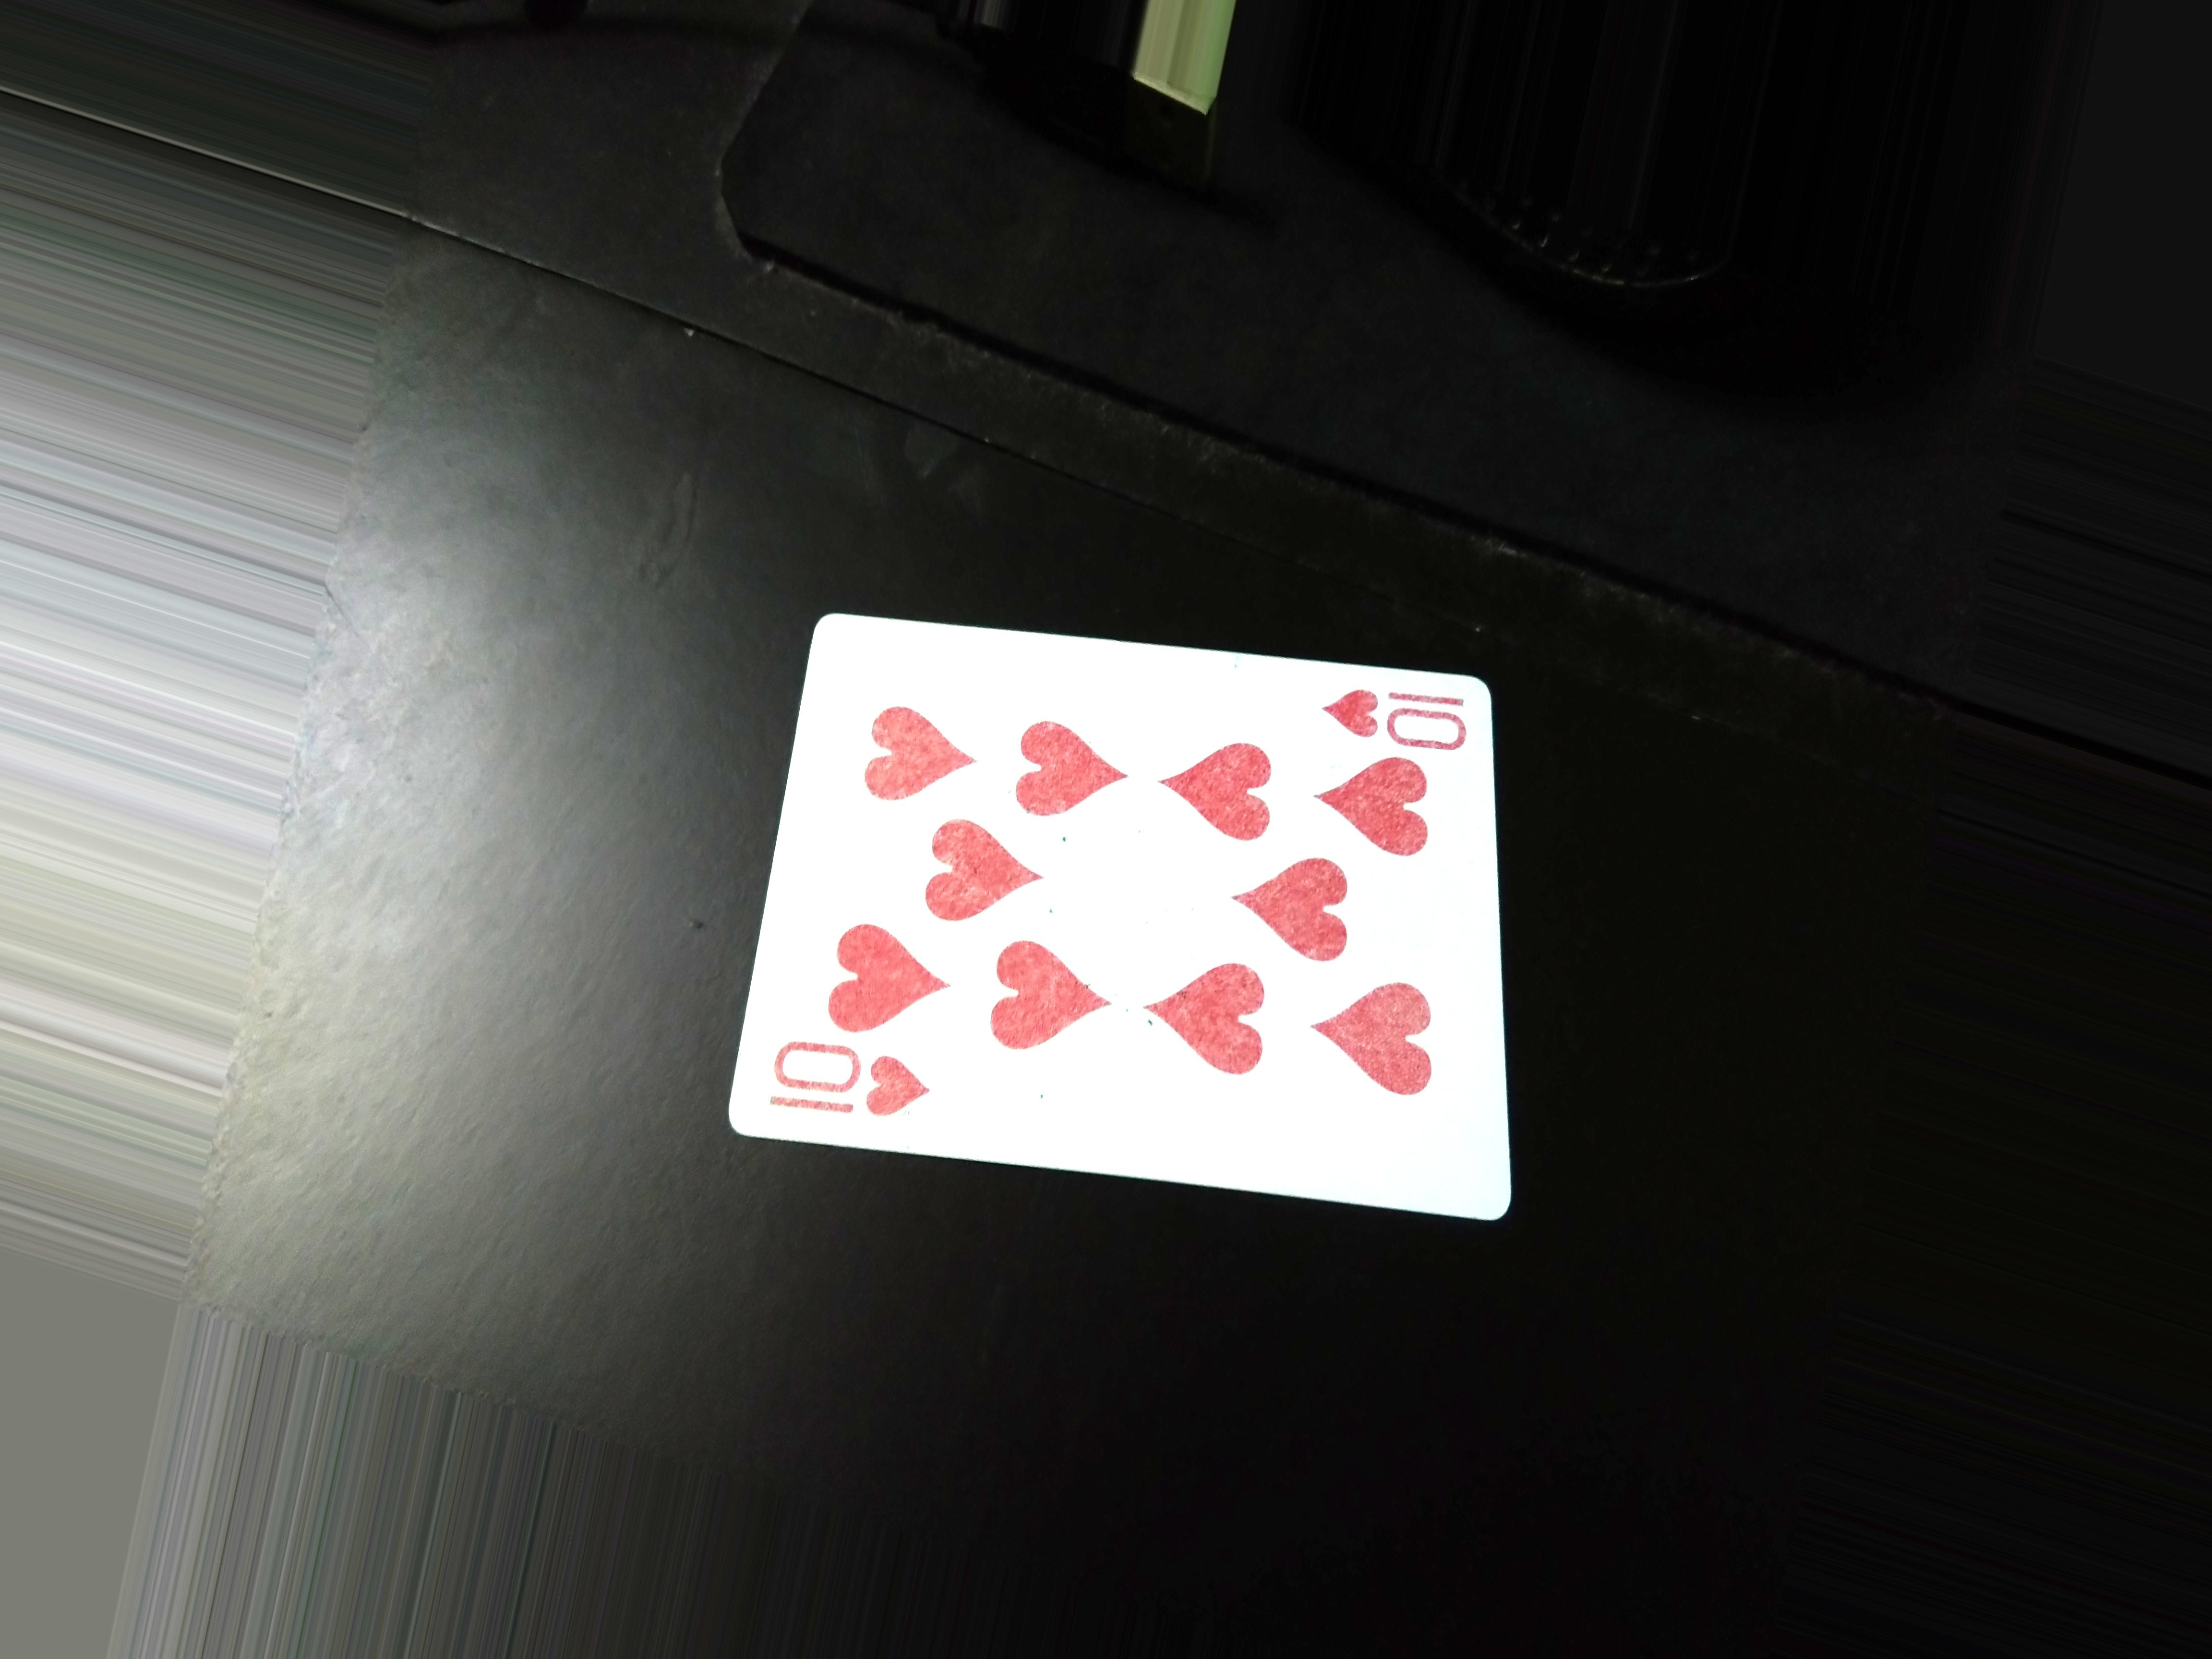10H: (761, 1035, 934, 1122)
